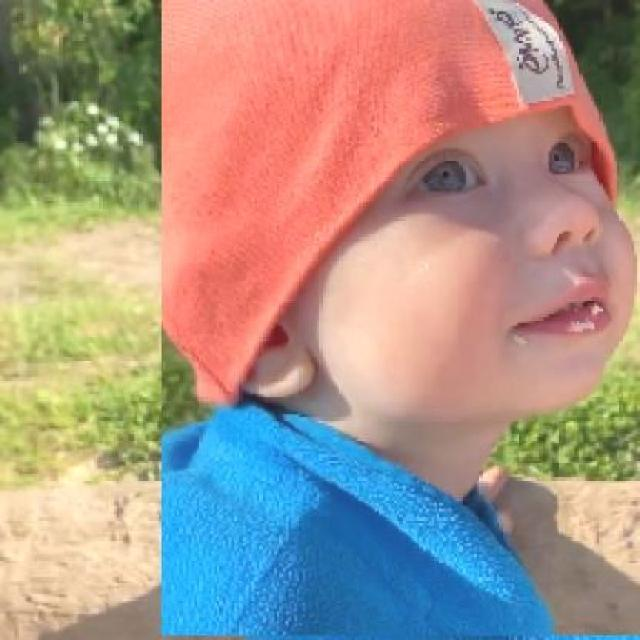child: (160, 0, 640, 637)
